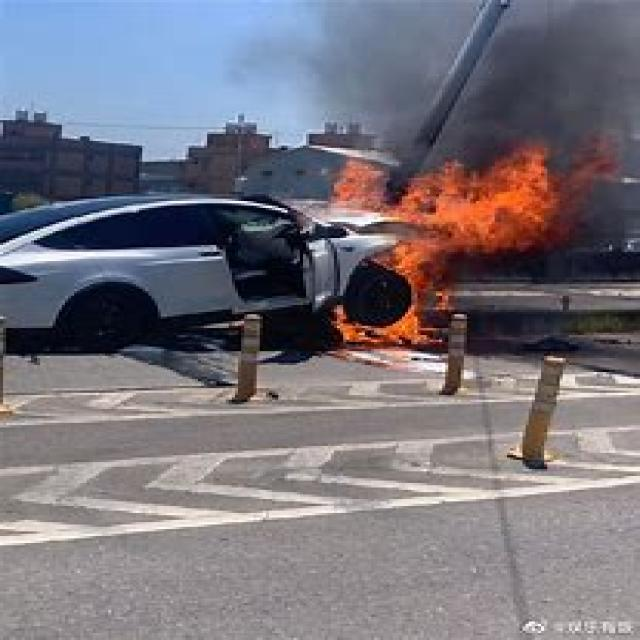fire: (399, 141, 617, 253), (330, 155, 452, 353)
